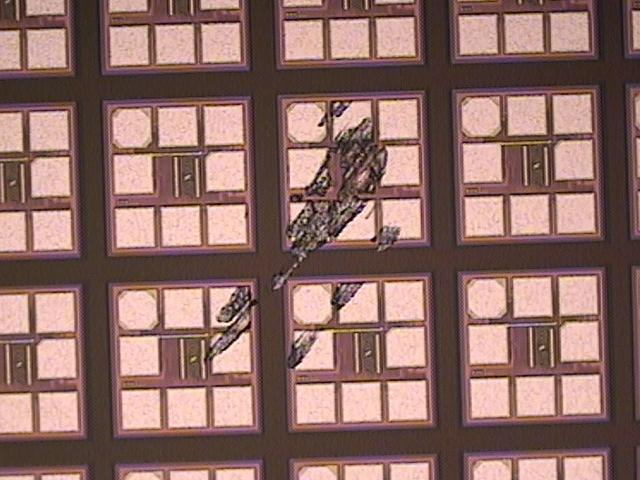SCRATCH: (200, 91, 405, 373)
